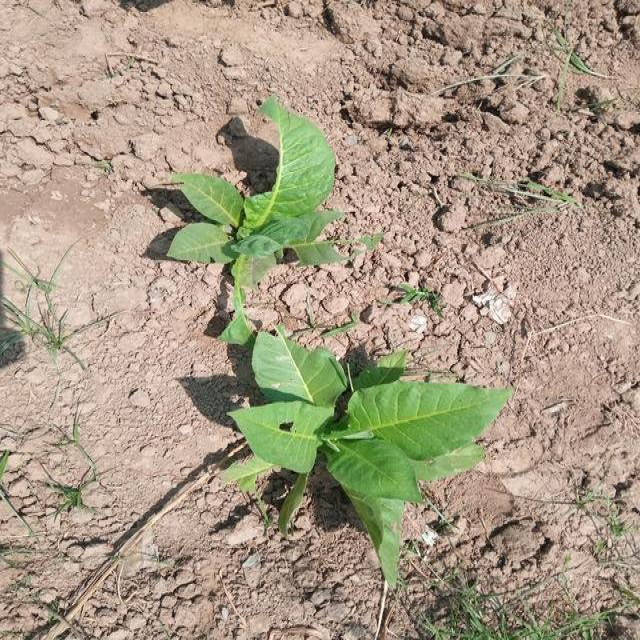crop: (234, 331, 518, 588), (166, 100, 367, 324)
